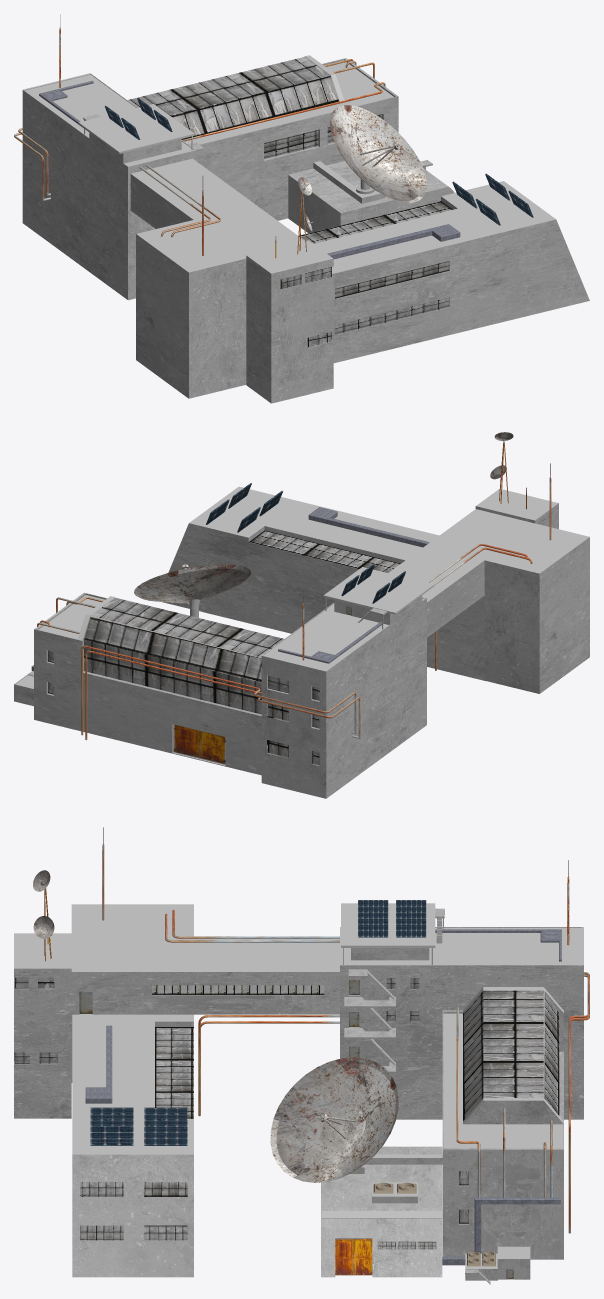
Rendered from Zavod_03.fbx.
The picture shows the model from 3 angles, top to bottom: view 1: azimuth 30°, elevation 25°; view 2: azimuth 150°, elevation 25°; view 3: azimuth 270°, elevation 25°; orthographic projection. The views are drawn at different scales.
Parts seen in each view (by area): view 1: Cylinder.001; view 2: Cylinder.001; view 3: Cylinder.001.
Part boxes in pixels (<box>): Cylinder.001: <box>14,14,589,403</box>; Cylinder.001: <box>14,432,589,798</box>; Cylinder.001: <box>14,827,589,1284</box>.
Size of the model in its own units: 912 by 445 by 949.
